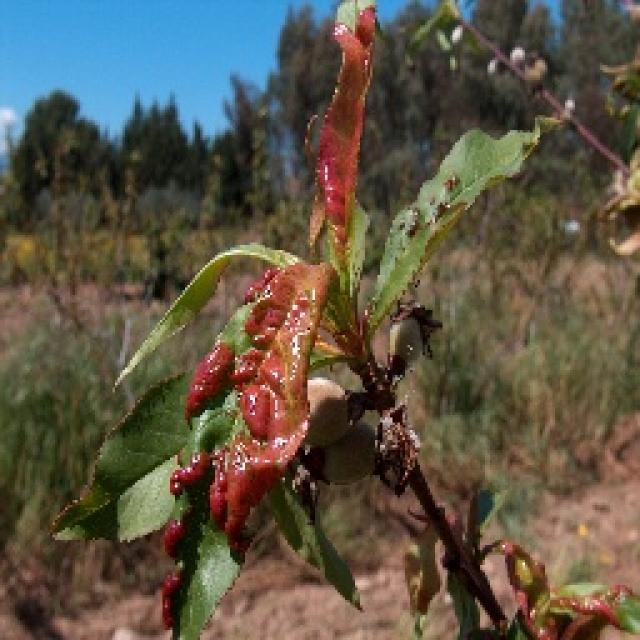peach_leaf_curl: (158, 172, 383, 509)
